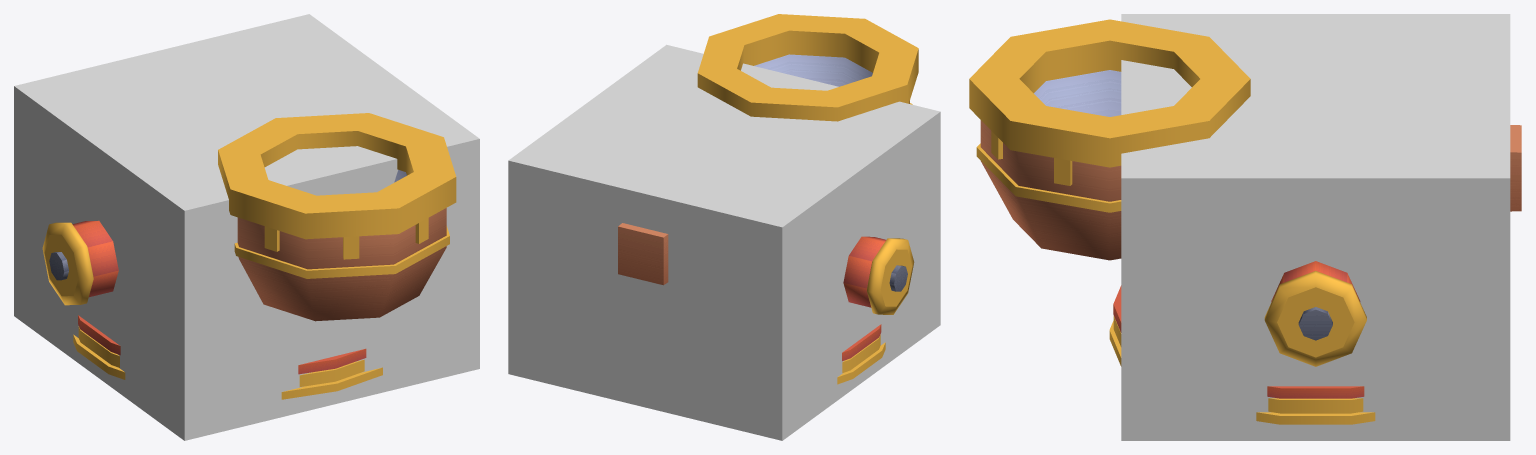
The model's file is catapult.glb.
3 views of the same model, side by side, from view 1: azimuth 30°, elevation 25°; view 2: azimuth 150°, elevation 25°; view 3: azimuth 270°, elevation 25° (orthographic). The views are drawn at different scales.
Parts seen in each view (by area): view 1: COL_BOX_01.003, upgrade_catapult_l7_arm, catapult_, upgrade_catapult_l6_base, upgrade_catapult_l2_arm, upgrade_catapult_l7_base, upgrade_catapult_l2_base, upgrade_catapult_l8_base, upgrade_catapult_l8_arm, upgrade_catapult_l4_arm; view 2: COL_BOX_01.003, upgrade_catapult_l7_arm, catapult_, upgrade_catapult_l6_base, upgrade_catapult_l4_arm, upgrade_catapult_l7_base, upgrade_catapult_l2_base, upgrade_catapult_l8_base; view 3: COL_BOX_01.003, upgrade_catapult_l7_arm, catapult_, upgrade_catapult_l6_base, upgrade_catapult_l4_arm, upgrade_catapult_l2_arm, upgrade_catapult_l7_base, upgrade_catapult_l2_base, upgrade_catapult_l8_base, upgrade_catapult_l8_arm.
Part boxes in pixels (<box>): COL_BOX_01.003: <box>14,14,479,440</box>; upgrade_catapult_l7_arm: <box>218,113,456,239</box>; catapult_: <box>237,170,446,321</box>; upgrade_catapult_l6_base: <box>42,220,118,305</box>; upgrade_catapult_l2_arm: <box>234,226,449,278</box>; upgrade_catapult_l7_base: <box>73,334,382,399</box>; upgrade_catapult_l2_base: <box>78,326,364,386</box>; upgrade_catapult_l8_base: <box>78,315,366,374</box>; upgrade_catapult_l8_arm: <box>264,218,428,259</box>; upgrade_catapult_l4_arm: <box>263,142,410,174</box>; COL_BOX_01.003: <box>508,44,940,440</box>; upgrade_catapult_l7_arm: <box>697,14,918,121</box>; catapult_: <box>618,54,909,285</box>; upgrade_catapult_l6_base: <box>843,236,914,314</box>; upgrade_catapult_l4_arm: <box>740,41,876,72</box>; upgrade_catapult_l7_base: <box>837,342,885,384</box>; upgrade_catapult_l2_base: <box>842,334,880,372</box>; upgrade_catapult_l8_base: <box>842,324,881,361</box>; COL_BOX_01.003: <box>1121,14,1510,440</box>; upgrade_catapult_l7_arm: <box>969,19,1250,167</box>; catapult_: <box>980,70,1521,260</box>; upgrade_catapult_l6_base: <box>1264,261,1366,366</box>; upgrade_catapult_l4_arm: <box>1026,54,1193,92</box>; upgrade_catapult_l2_arm: <box>976,143,1121,212</box>; upgrade_catapult_l7_base: <box>1109,321,1375,424</box>; upgrade_catapult_l2_base: <box>1113,316,1363,413</box>; upgrade_catapult_l8_base: <box>1113,285,1364,398</box>; upgrade_catapult_l8_arm: <box>991,131,1072,185</box>.
Size of the model in its own units: 1.55 by 0.955 by 1.71.
2 materials, 2 textured.
